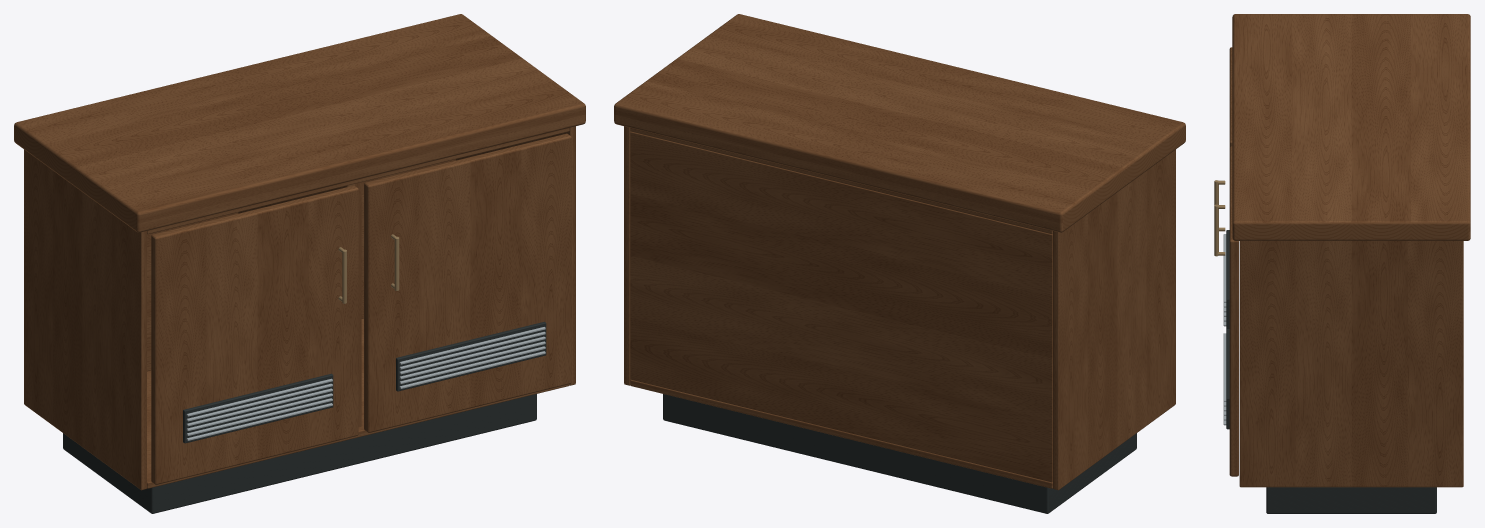
The model's file is akvaryum_dolabi.glb.
3 views of the same model, side by side, from view 1: azimuth 30°, elevation 25°; view 2: azimuth 150°, elevation 25°; view 3: azimuth 270°, elevation 25° (orthographic). The views are drawn at different scales.
Parts seen in each view (by area): view 1: Thick aquarium support deck, Aquarium equipment door, Aquarium equipment door.001, Load-bearing aquarium cabinet side, Recessed aquarium plinth, Equipment door vent surround.001, Equipment door vent surround, Load-bearing aquarium cabinet deck, Load-bearing aquarium cabinet deck.001, Load-bearing aquarium cabinet side.001, Load-bearing aquarium cabinet back, Central structural partition; view 2: Load-bearing aquarium cabinet back, Thick aquarium support deck, Load-bearing aquarium cabinet side, Recessed aquarium plinth, Load-bearing aquarium cabinet deck, Load-bearing aquarium cabinet deck.001, Load-bearing aquarium cabinet side.001; view 3: Load-bearing aquarium cabinet side.001, Thick aquarium support deck, Recessed aquarium plinth, Aquarium equipment door.001, Equipment door vent surround.001, Aquarium equipment door, Equipment door vent surround.
Part boxes in pixels (bbox=[...]): Thick aquarium support deck: bbox=[14, 14, 585, 232]; Aquarium equipment door: bbox=[151, 185, 358, 484]; Aquarium equipment door.001: bbox=[364, 133, 571, 432]; Load-bearing aquarium cabinet side: bbox=[24, 149, 146, 490]; Recessed aquarium plinth: bbox=[63, 394, 536, 513]; Equipment door vent surround.001: bbox=[396, 321, 546, 391]; Equipment door vent surround: bbox=[183, 373, 333, 443]; Load-bearing aquarium cabinet deck: bbox=[147, 318, 569, 488]; Load-bearing aquarium cabinet deck.001: bbox=[147, 128, 569, 234]; Load-bearing aquarium cabinet side.001: bbox=[456, 126, 575, 385]; Load-bearing aquarium cabinet back: bbox=[147, 159, 455, 371]; Central structural partition: bbox=[238, 182, 361, 427]; Load-bearing aquarium cabinet back: bbox=[630, 131, 1052, 482]; Thick aquarium support deck: bbox=[614, 14, 1185, 232]; Load-bearing aquarium cabinet side: bbox=[1053, 149, 1175, 490]; Recessed aquarium plinth: bbox=[663, 394, 1136, 513]; Load-bearing aquarium cabinet deck: bbox=[630, 380, 1052, 488]; Load-bearing aquarium cabinet deck.001: bbox=[630, 128, 1052, 234]; Load-bearing aquarium cabinet side.001: bbox=[624, 126, 630, 385]; Load-bearing aquarium cabinet side.001: bbox=[1239, 241, 1463, 487]; Thick aquarium support deck: bbox=[1232, 14, 1470, 240]; Recessed aquarium plinth: bbox=[1266, 487, 1436, 513]; Aquarium equipment door.001: bbox=[1229, 146, 1238, 476]; Equipment door vent surround.001: bbox=[1226, 329, 1229, 429]; Aquarium equipment door: bbox=[1229, 47, 1232, 147]; Equipment door vent surround: bbox=[1226, 230, 1229, 329].
Bounding box in the file's own units: 1.3 × 0.894 × 0.676.
5 materials, 5 textured.
